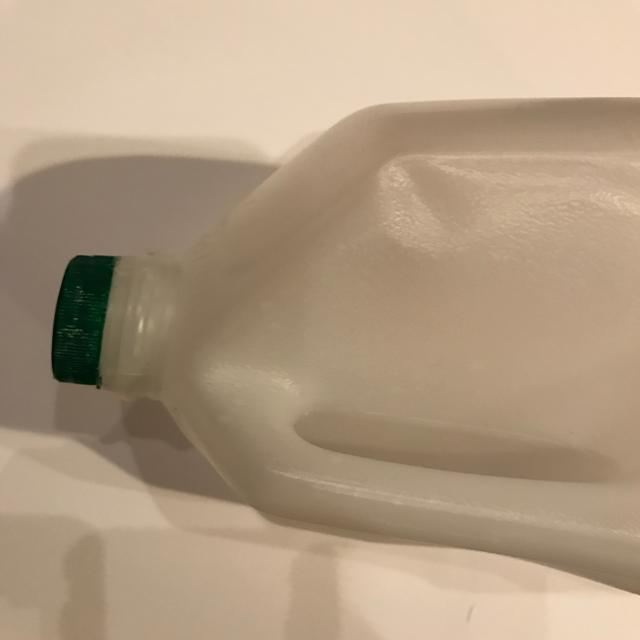plastic: (50, 96, 640, 595)
